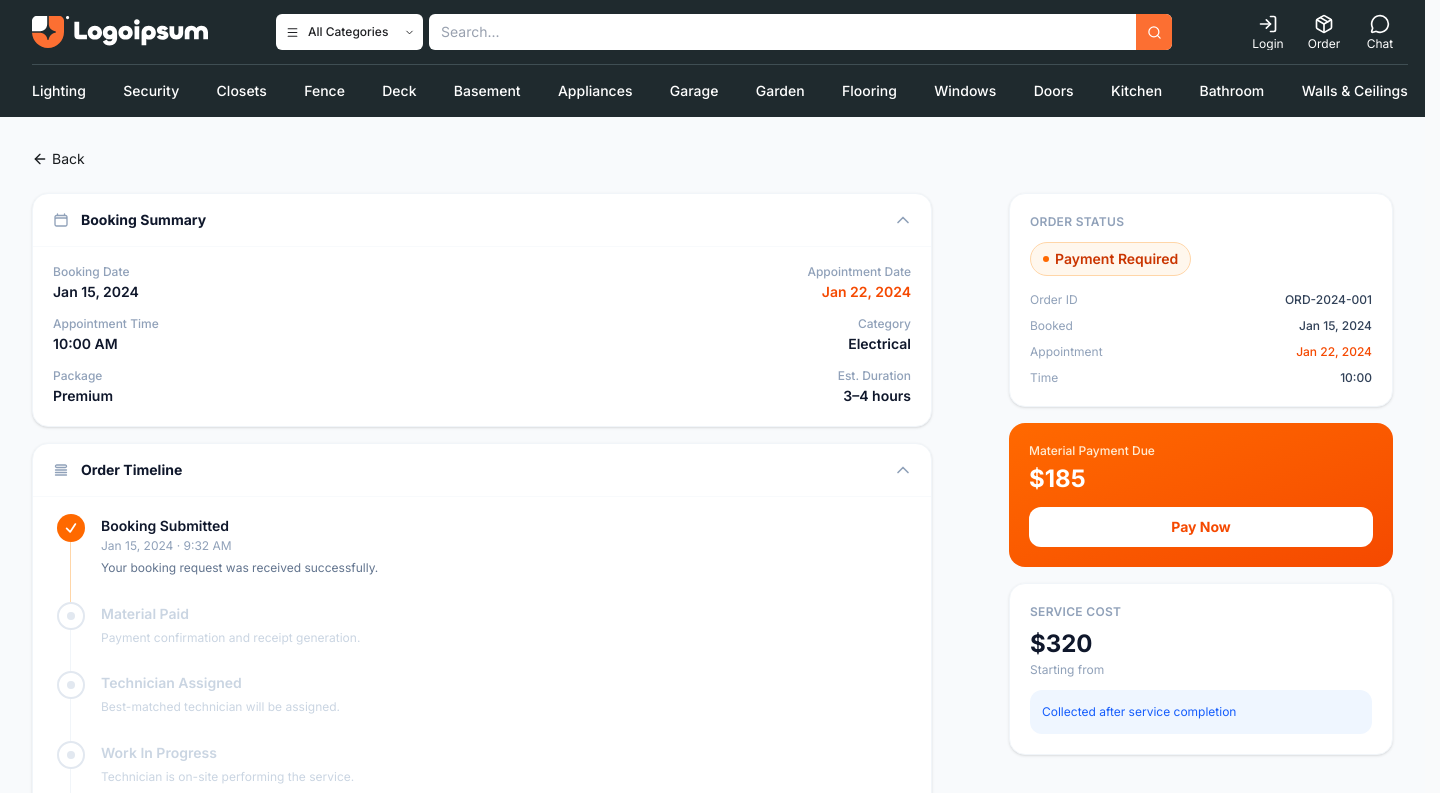
Test: OrderDetailsContent › collapses and expands accordion sections
Check: the text "Booking Date" is shown, box 53,264 -> 139,280
Click the button "Booking Summary". click: (144, 220)
box: 33,194 -> 931,246
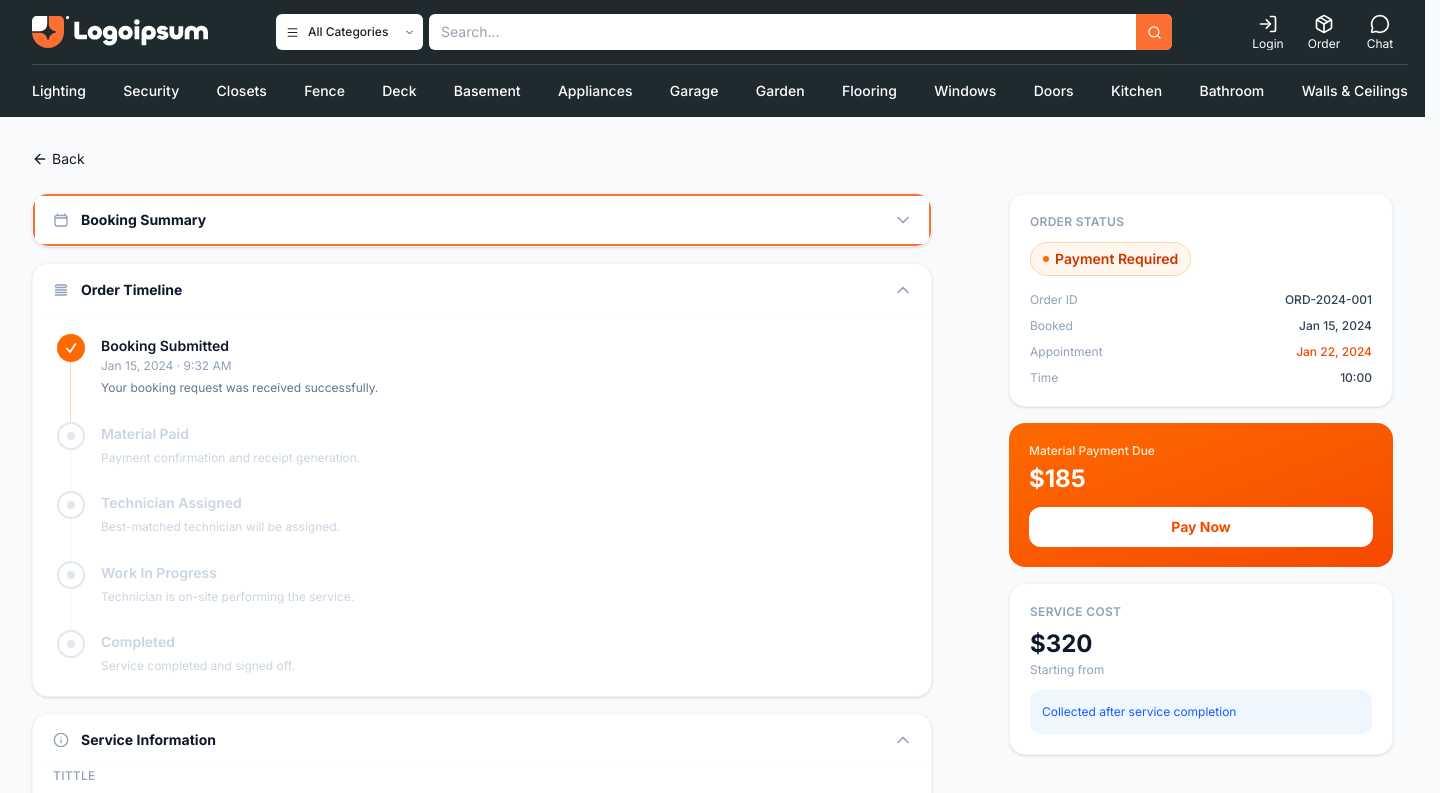
Check: the text "Booking Date" is gone
Click the button "Booking Summary". click: (144, 220)
box: 33,194 -> 931,246
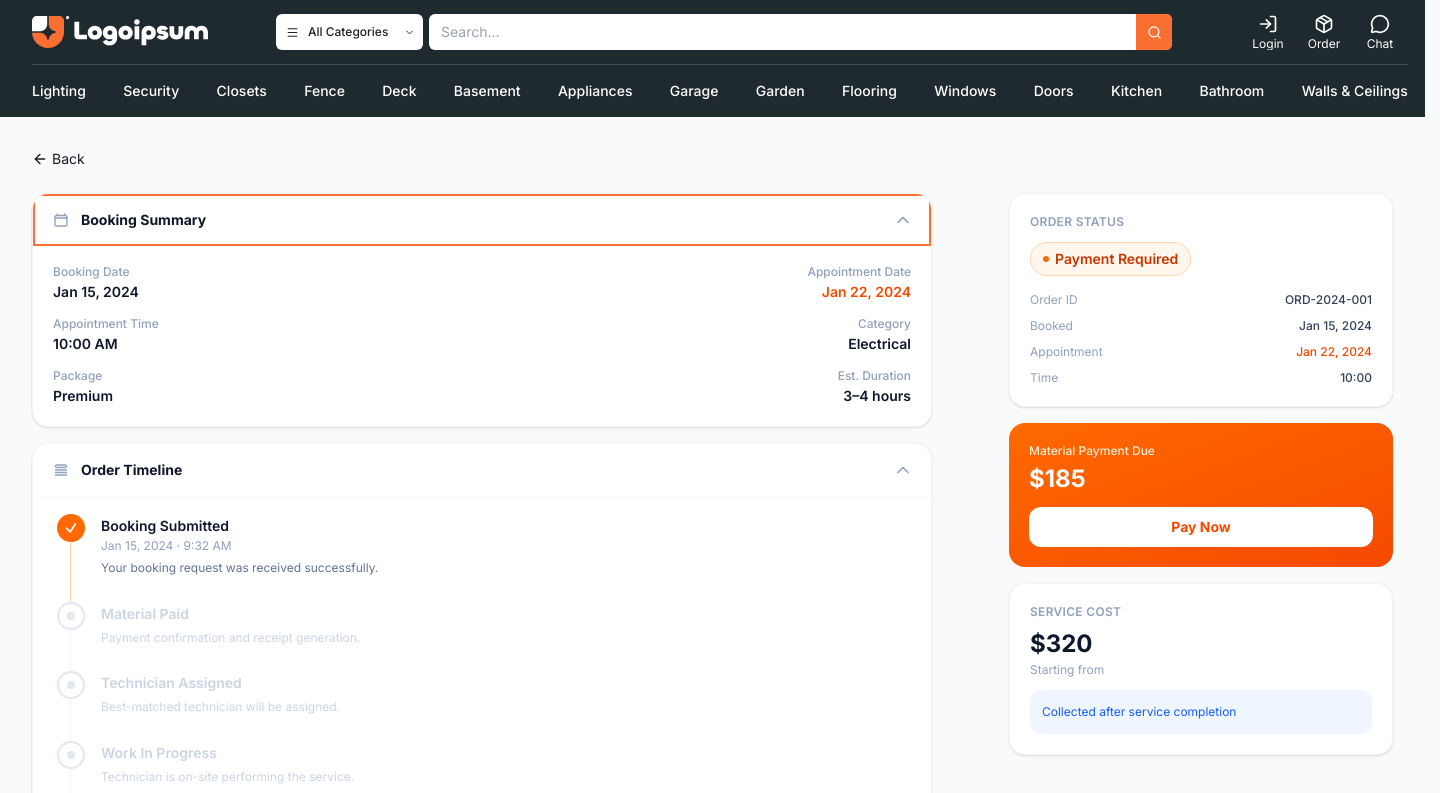
Check: the text "Booking Date" is shown, box 53,264 -> 139,280
